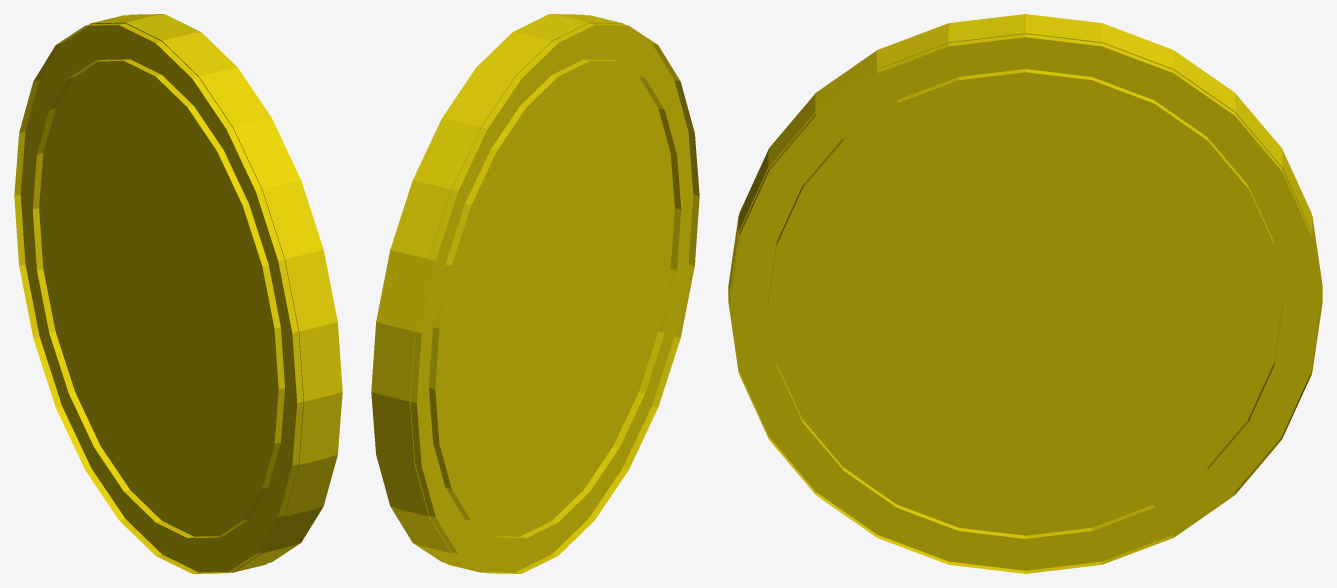
File: Coin.fbx
3 views of the same model, side by side, from view 1: azimuth 30°, elevation 25°; view 2: azimuth 150°, elevation 25°; view 3: azimuth 270°, elevation 25° (orthographic). The views are drawn at different scales.
Parts seen in each view (by area): view 1: Cylinder.002, Cylinder.001, Cylinder; view 2: Cylinder.002, Cylinder.001, Cylinder; view 3: Cylinder.002, Cylinder.001, Cylinder.
Part boxes in pixels (x1=…): Cylinder.002: x1=20, y1=14, x2=336, y2=572; Cylinder.001: x1=14, y1=14, x2=342, y2=573; Cylinder: x1=32, y1=59, x2=284, y2=538; Cylinder.002: x1=377, y1=14, x2=693, y2=572; Cylinder.001: x1=371, y1=14, x2=699, y2=573; Cylinder: x1=429, y1=59, x2=681, y2=538; Cylinder.002: x1=728, y1=16, x2=1322, y2=570; Cylinder.001: x1=729, y1=14, x2=1321, y2=573; Cylinder: x1=768, y1=69, x2=1282, y2=538.
Bounding box in the file's own units: 13.89 × 150 × 150.
